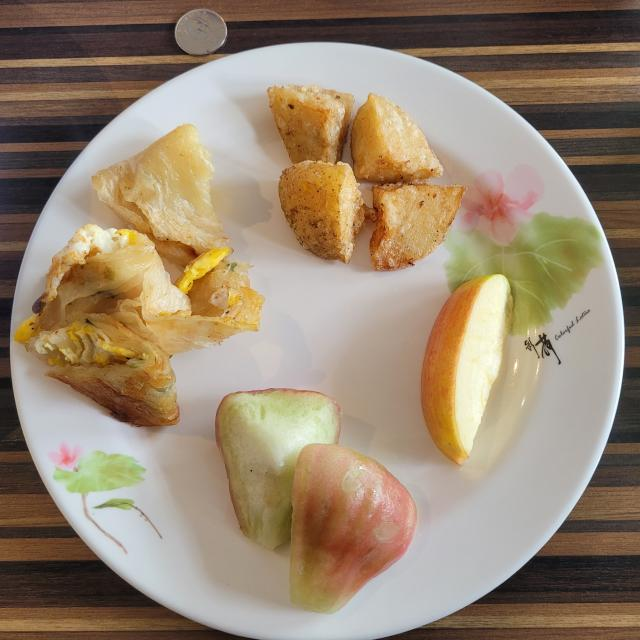apple -sliced-: (421, 274, 512, 464)
coin: (175, 9, 228, 55)
fried potato: (268, 85, 465, 270)
